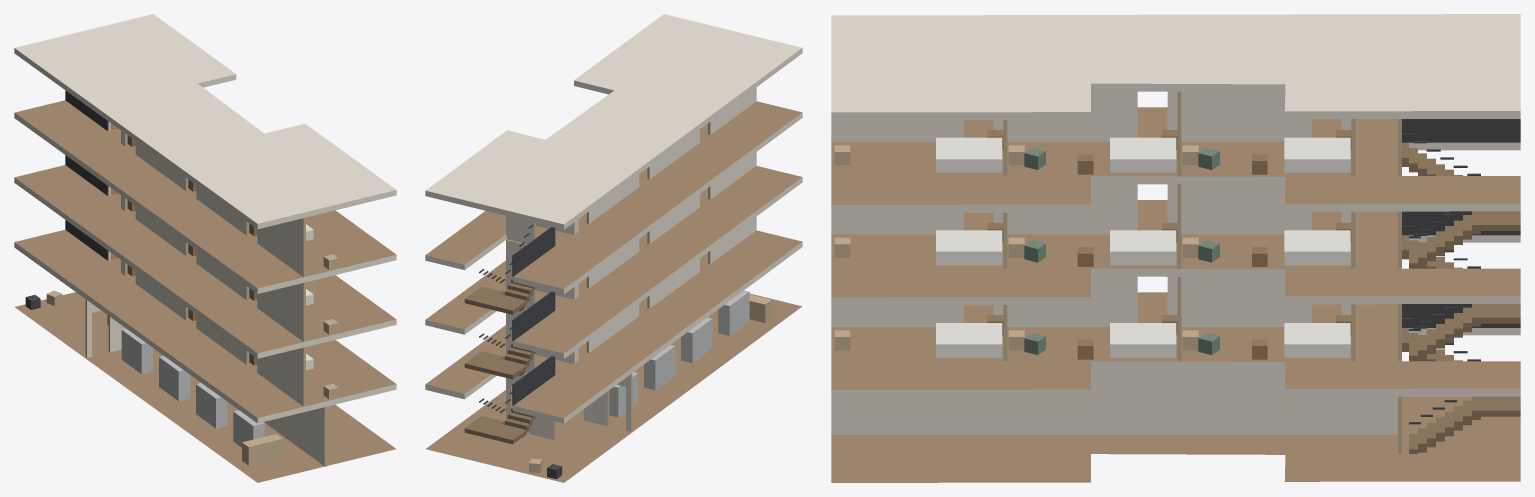
File: interior.glb
3 views of the same model, side by side, from view 1: azimuth 30°, elevation 25°; view 2: azimuth 150°, elevation 25°; view 3: azimuth 270°, elevation 25° (orthographic). The views are drawn at different scales.
Parts seen in each view (by area): view 1: slabs, partitions, coarse-s0, stair, coarse-s2, coarse-s3, coarse-s1; view 2: slabs, partitions, stair, coarse-s0; view 3: slabs, partitions, stair, coarse-s2, coarse-s3, coarse-s1.
Part boxes in pixels (left/top/right/bottom): slabs: left=14, top=14, right=396, bottom=482; partitions: left=85, top=121, right=327, bottom=466; coarse-s0: left=25, top=290, right=282, bottom=465; stair: left=65, top=90, right=117, bottom=260; coarse-s2: left=127, top=200, right=338, bottom=334; coarse-s3: left=127, top=135, right=338, bottom=269; coarse-s1: left=127, top=265, right=338, bottom=399; slabs: left=425, top=14, right=802, bottom=482; partitions: left=506, top=87, right=756, bottom=439; stair: left=464, top=224, right=555, bottom=444; coarse-s0: left=529, top=290, right=771, bottom=479; slabs: left=831, top=14, right=1520, bottom=482; partitions: left=831, top=91, right=1401, bottom=453; stair: left=1402, top=119, right=1520, bottom=453; coarse-s2: left=834, top=222, right=1351, bottom=266; coarse-s3: left=834, top=130, right=1351, bottom=174; coarse-s1: left=834, top=315, right=1351, bottom=359.
Size of the model in its own units: 7 by 12.31 by 20.73.
